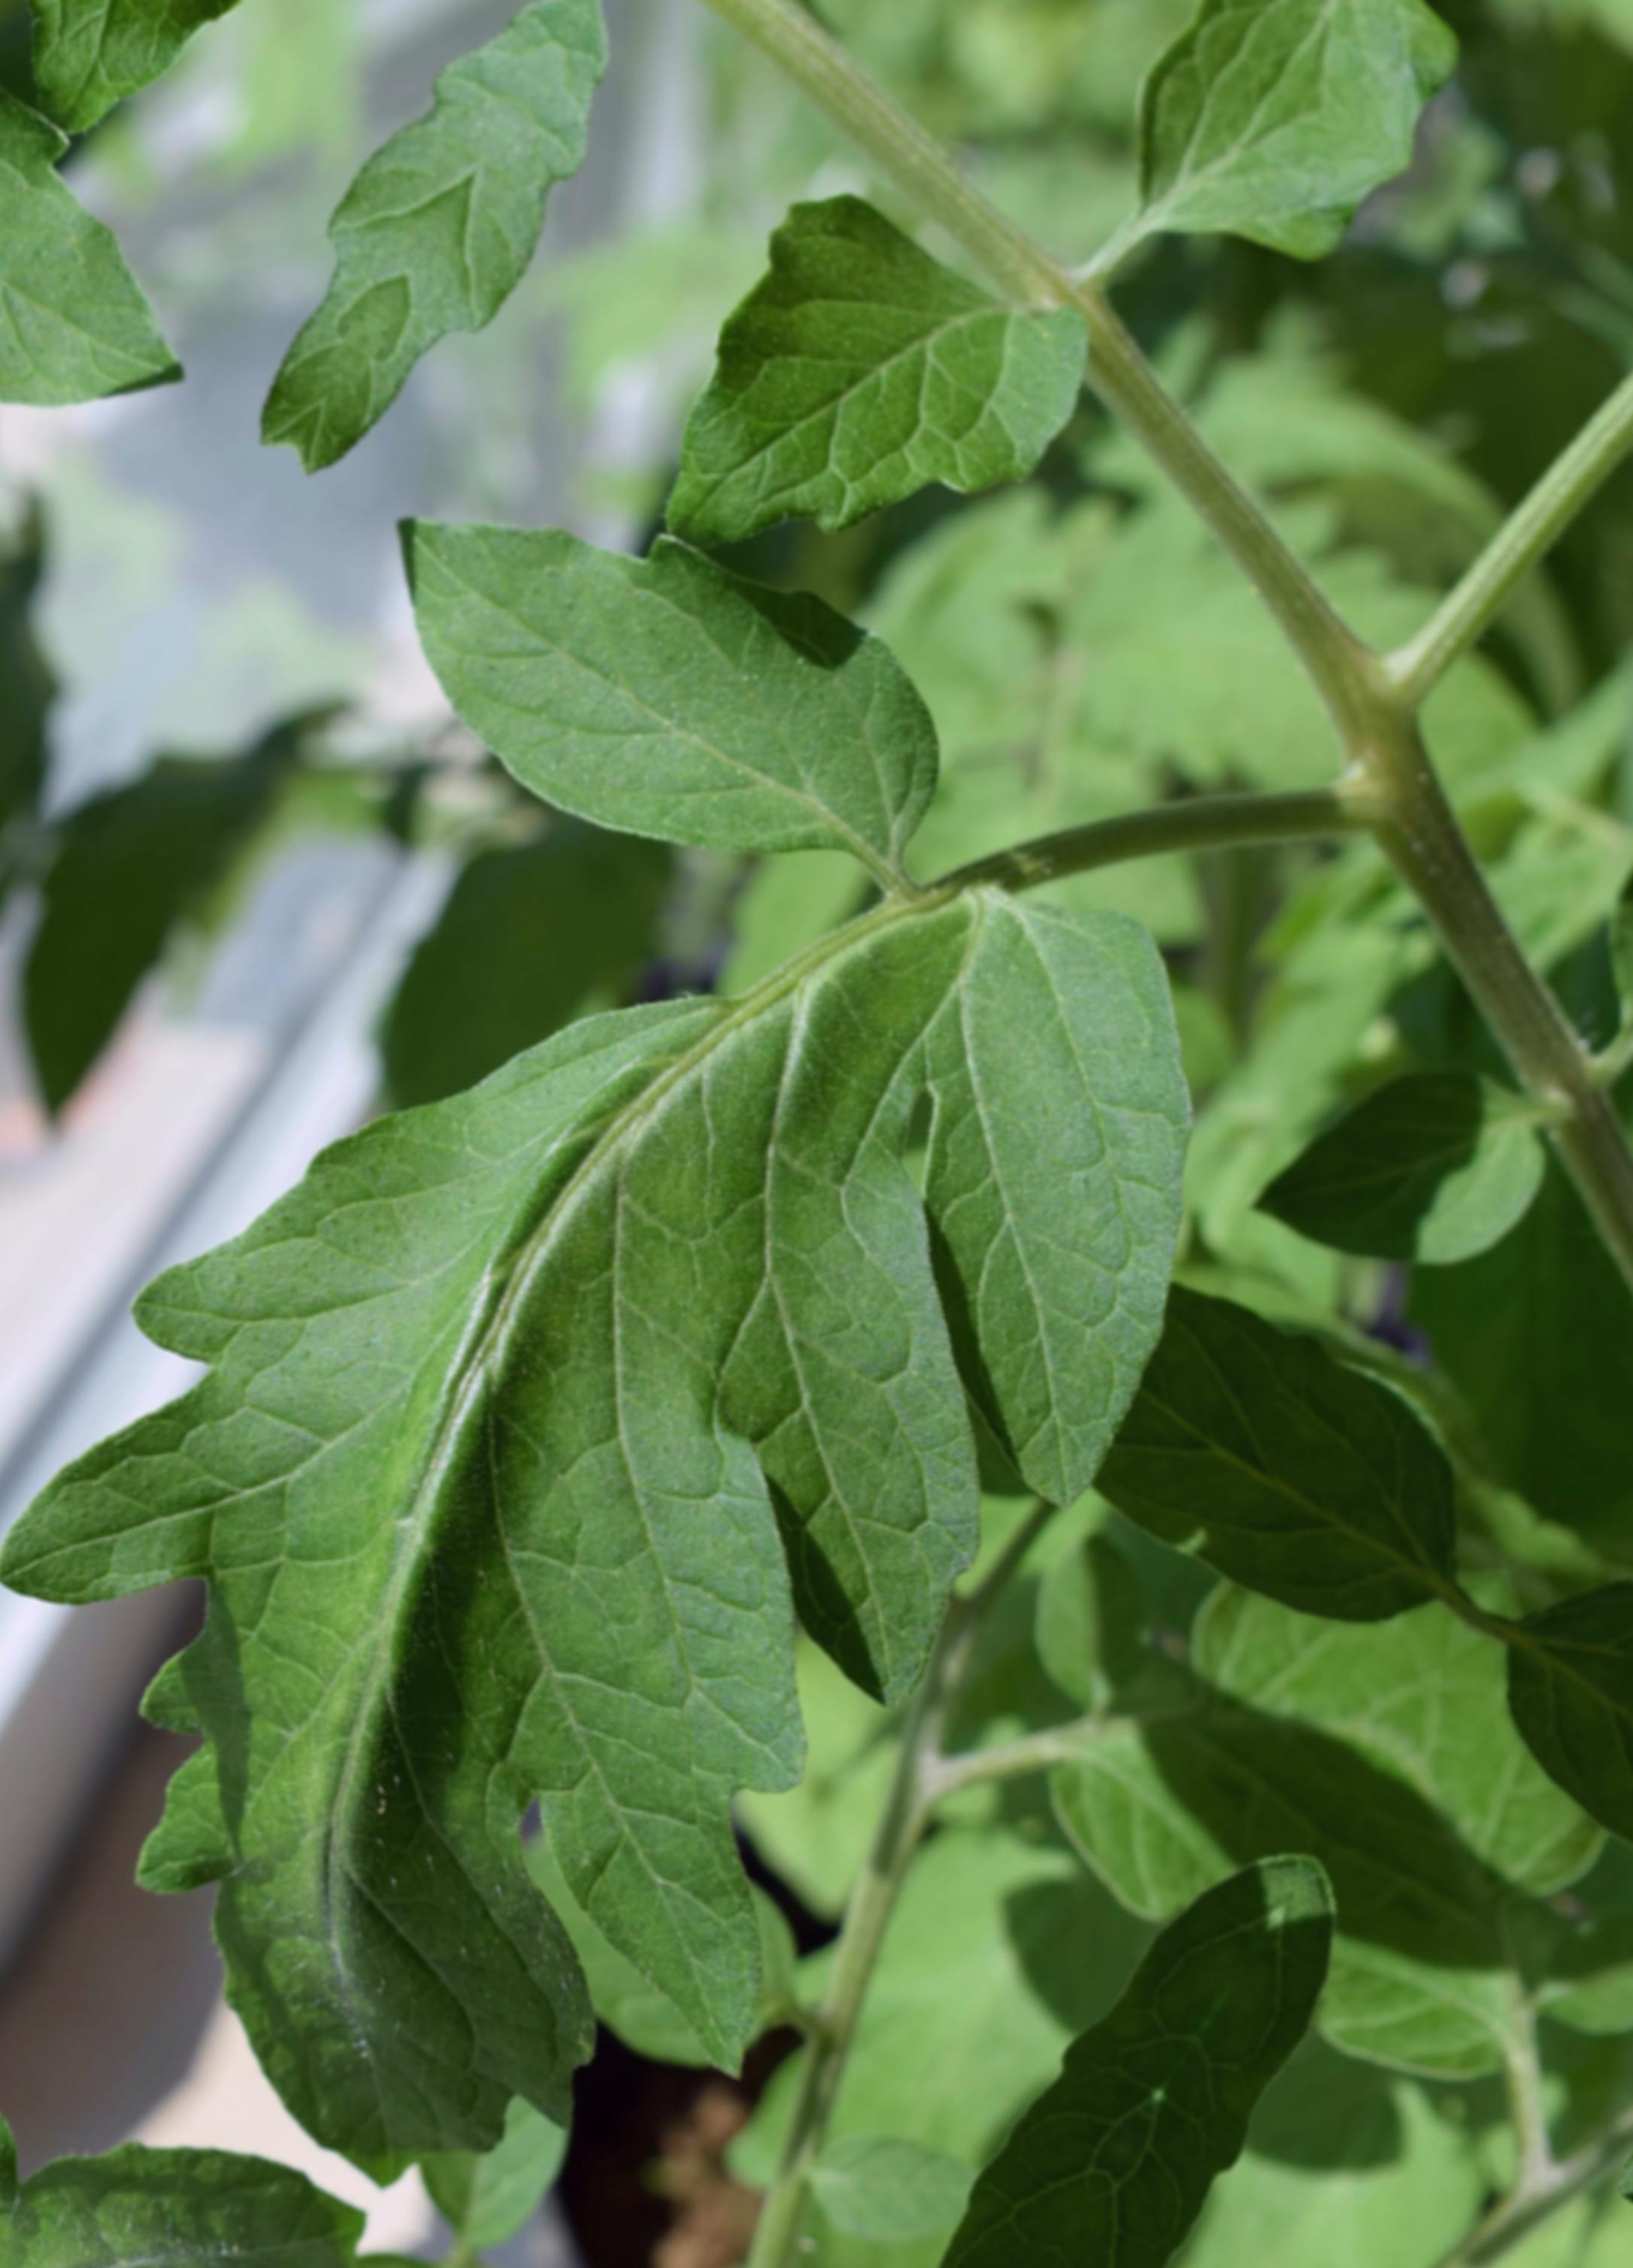Tomato leaf: (0, 569, 1508, 2268), (322, 389, 1046, 1042), (571, 92, 1230, 764), (229, 0, 729, 622)
